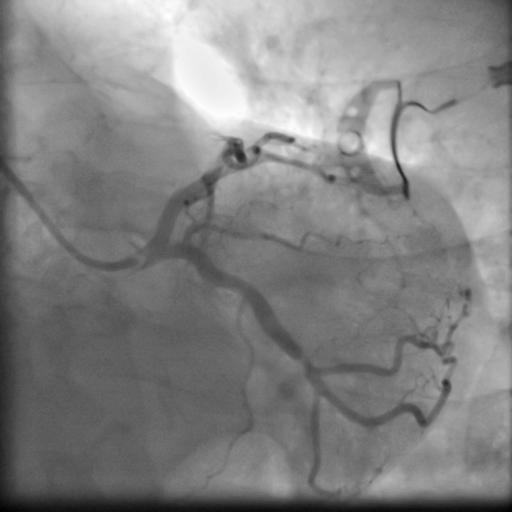Stenosis: (295, 346, 313, 377)
